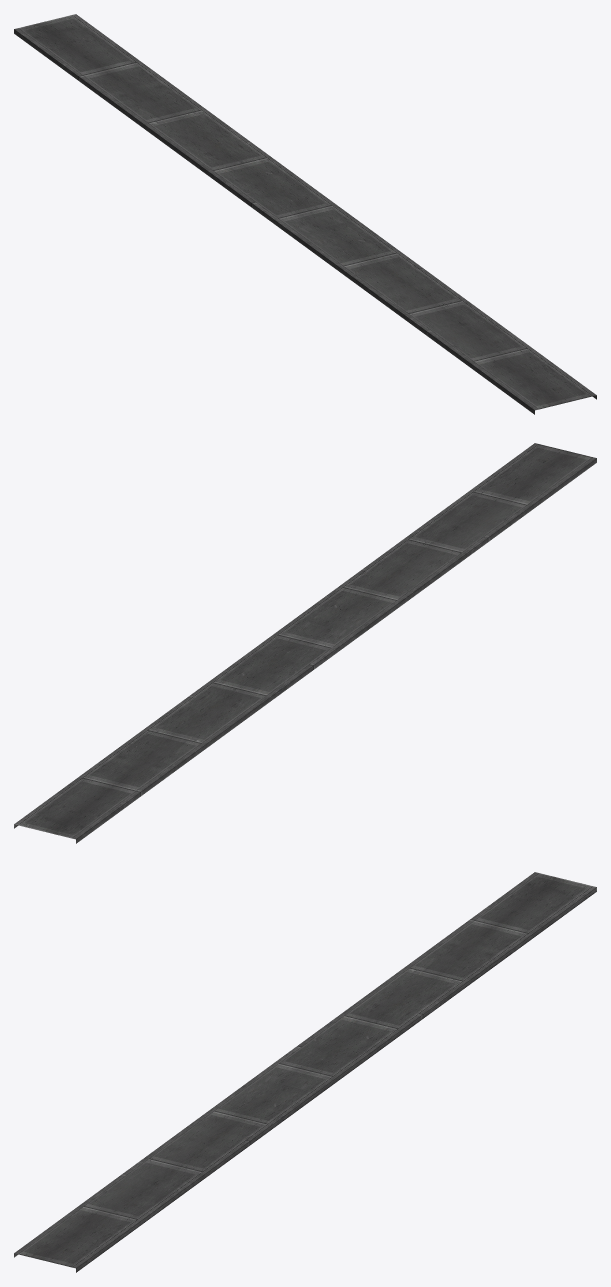
The model's file is Median_5.fbx.
3 renders of one model, top to bottom at view 1: azimuth 30°, elevation 25°; view 2: azimuth 150°, elevation 25°; view 3: azimuth 330°, elevation 25°, orthographic.
Visible parts, largest first — view 1: Plane005; view 2: Plane005; view 3: Plane005.
Part boxes in pixels (x1,y1,x2,y2): Plane005: (14,14,596,414); Plane005: (14,443,596,843); Plane005: (14,872,596,1272).
Bounding box in the file's own units: 4.4 × 0.3 × 64.
1 material, 1 textured.
